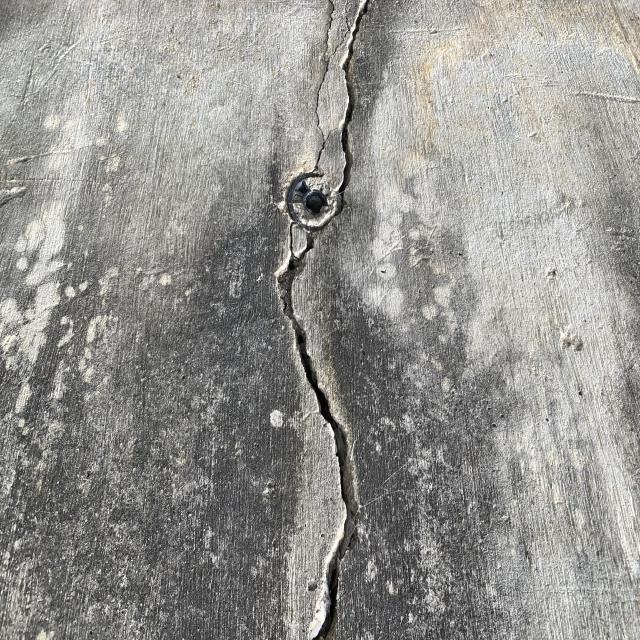SurfaceCrack: (234, 0, 417, 640)
